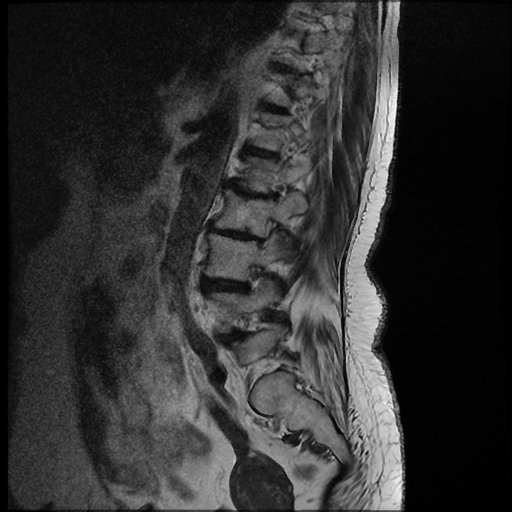LFS2: (231, 252, 271, 300)
